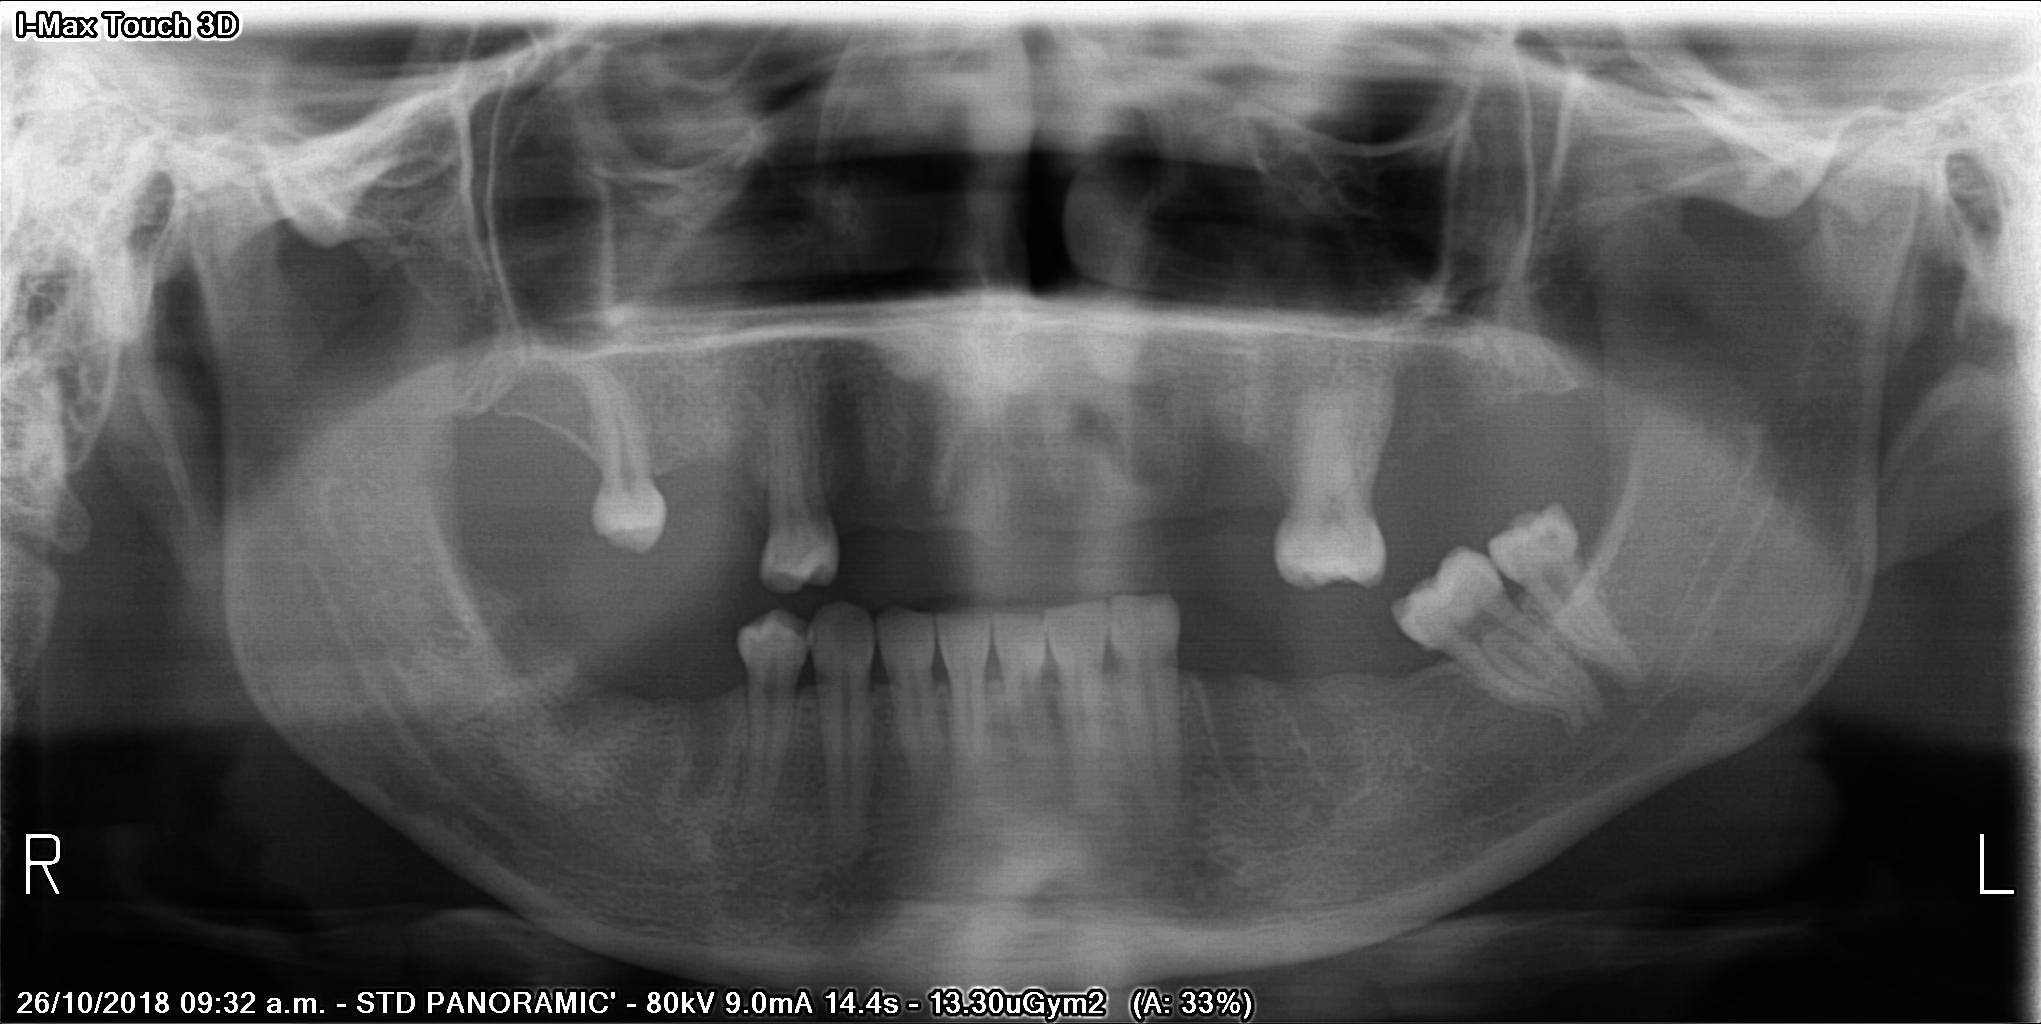Çürük Bölgesi: (1537, 524, 1570, 555)
